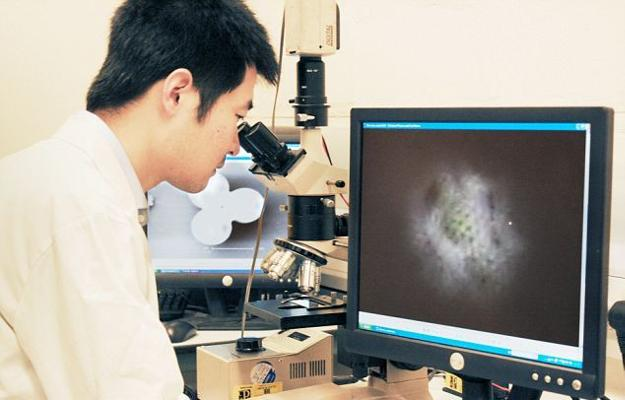person: (1, 2, 282, 400)
